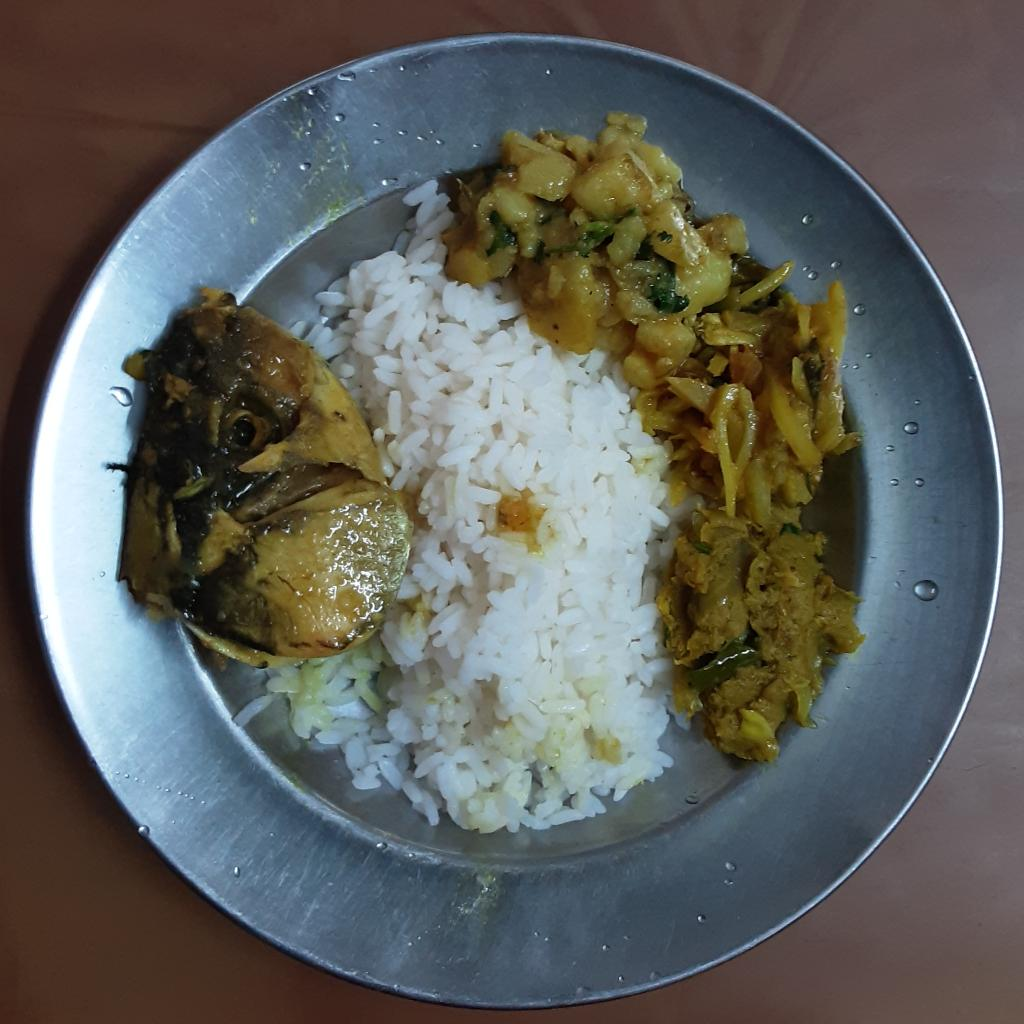fish: (121, 283, 408, 671)
potato: (639, 270, 864, 522)
rice: (234, 180, 683, 830)
vegetable: (446, 113, 755, 393)
vorta: (671, 509, 869, 766)
